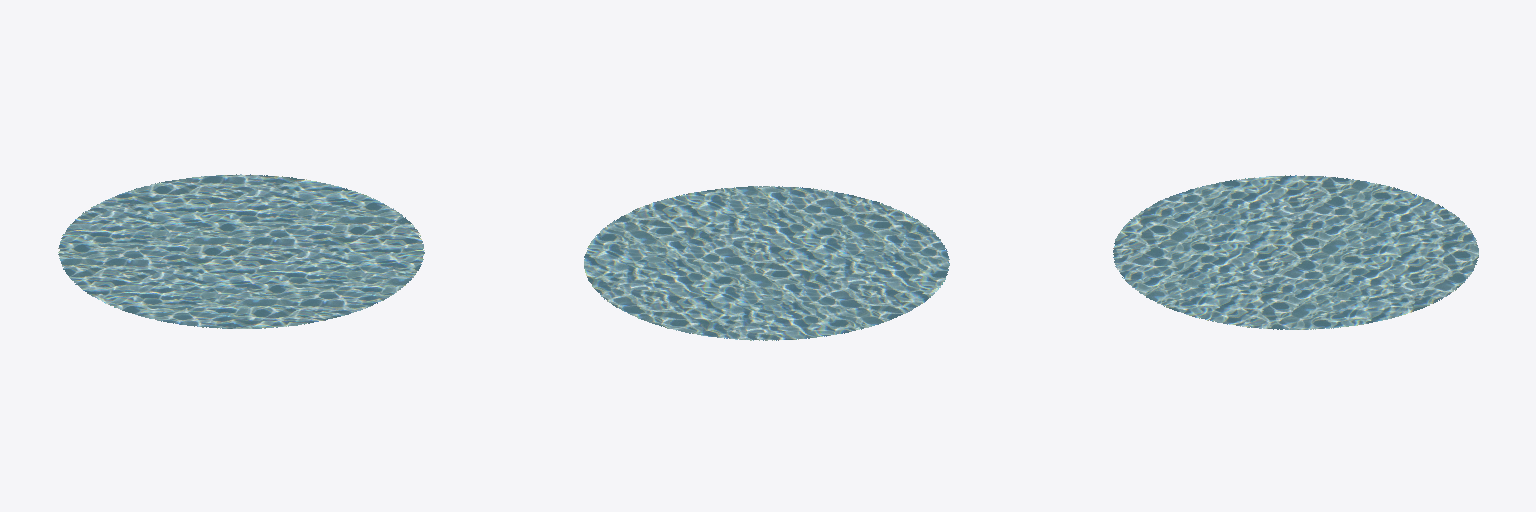
3 renders of one model, left to right at view 1: azimuth 30°, elevation 25°; view 2: azimuth 150°, elevation 25°; view 3: azimuth 270°, elevation 25°, orthographic.
Bounding box in the file's own units: 2 × 0 × 2.
1 materials, 1 textured.